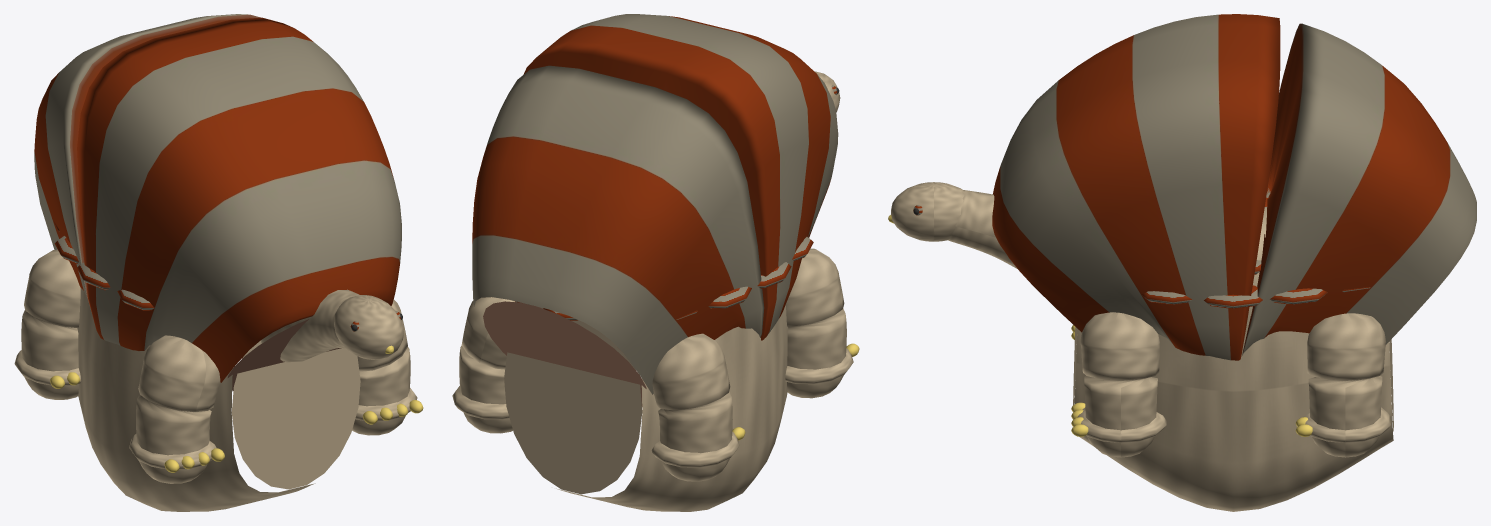
File: other-tortoise.glb
3 renders of one model, left to right at view 1: azimuth 30°, elevation 25°; view 2: azimuth 150°, elevation 25°; view 3: azimuth 270°, elevation 25°, orthographic. The views are drawn at different scales.
Visible parts, largest first — view 1: galapagos-giant-tortoise; view 2: galapagos-giant-tortoise; view 3: galapagos-giant-tortoise.
Boxes of the visible parts, x1,y1,x2,y2 form: galapagos-giant-tortoise: [14, 14, 423, 511]; galapagos-giant-tortoise: [452, 14, 859, 511]; galapagos-giant-tortoise: [888, 14, 1476, 511].
Size of the model in its own units: 1 by 1.57 by 1.89.
Materials: 4 (2 with a texture image).
